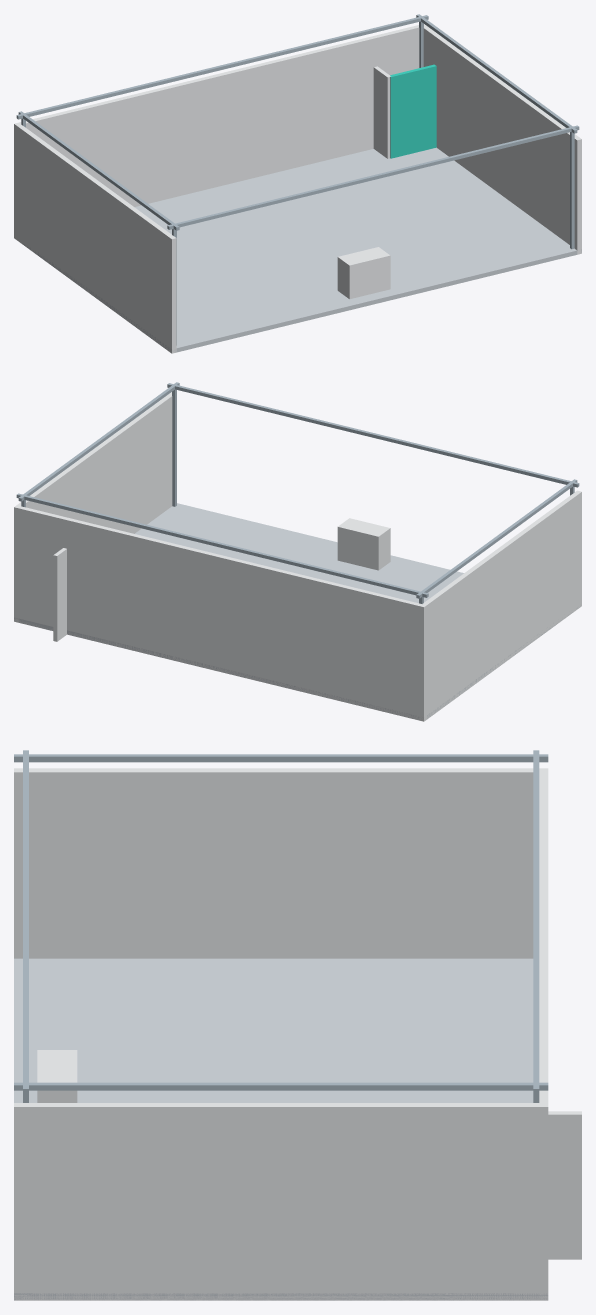
The picture shows the model from 3 angles, top to bottom: view 1: azimuth 30°, elevation 25°; view 2: azimuth 150°, elevation 25°; view 3: azimuth 270°, elevation 25°; orthographic projection. The views are drawn at different scales.
Parts seen in each view (by area): view 1: Exhibition Booth Concept; view 2: Exhibition Booth Concept; view 3: Exhibition Booth Concept.
Part boxes in pixels (<box>): Exhibition Booth Concept: <box>14,14,581,353</box>; Exhibition Booth Concept: <box>14,382,581,721</box>; Exhibition Booth Concept: <box>14,750,581,1300</box>.
Bounding box in the file's own units: 12 × 3.49 × 8.51.
